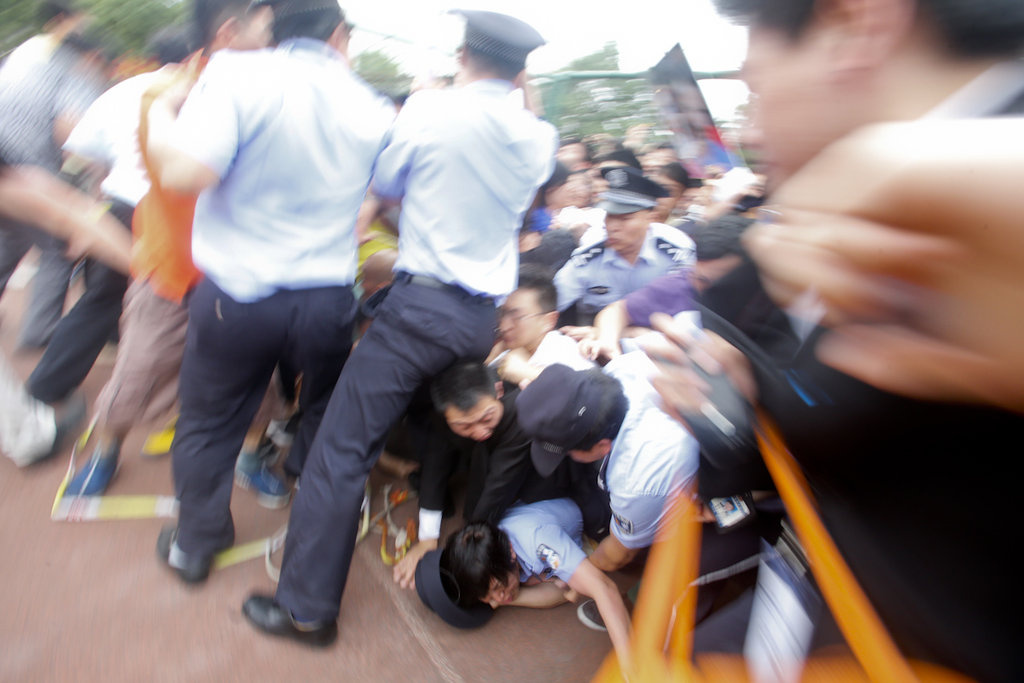10+: (1, 1, 1023, 672)
down: (392, 360, 585, 591), (438, 493, 624, 642)
